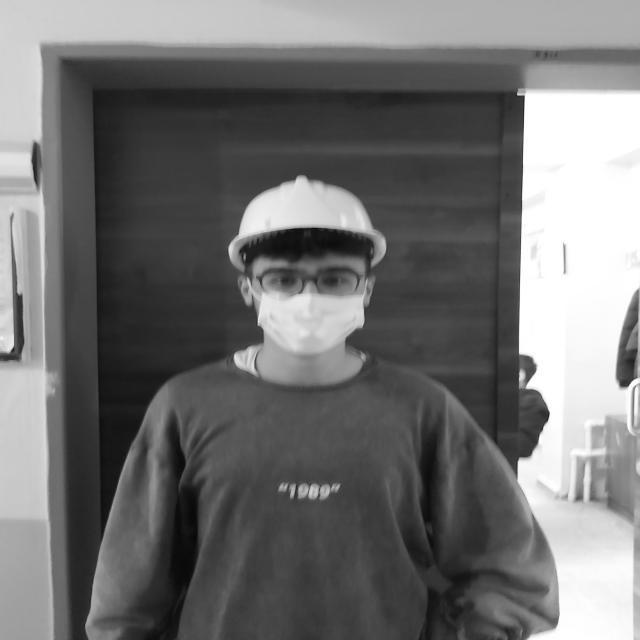safety_helmet: (228, 181, 386, 273)
